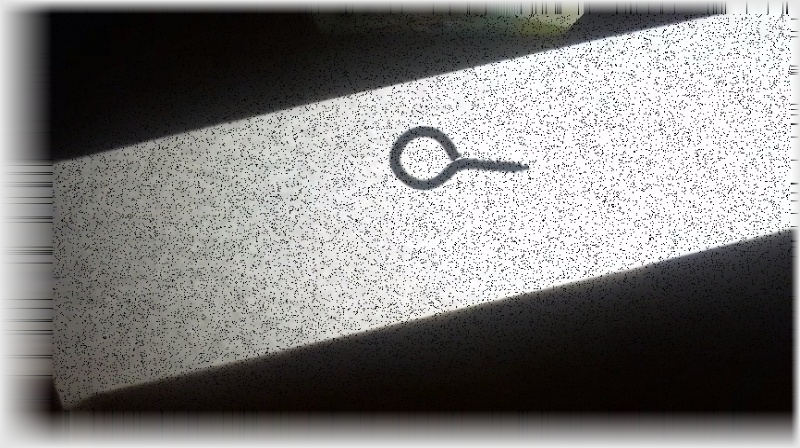O001: (385, 124, 534, 192)
